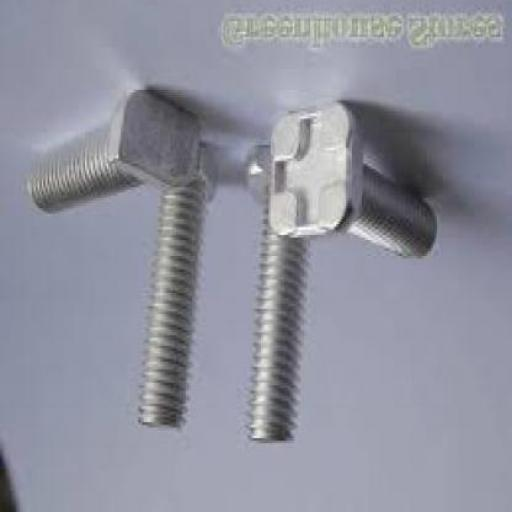metal: (265, 103, 435, 264), (139, 142, 215, 433), (25, 90, 198, 216), (243, 148, 312, 446)
